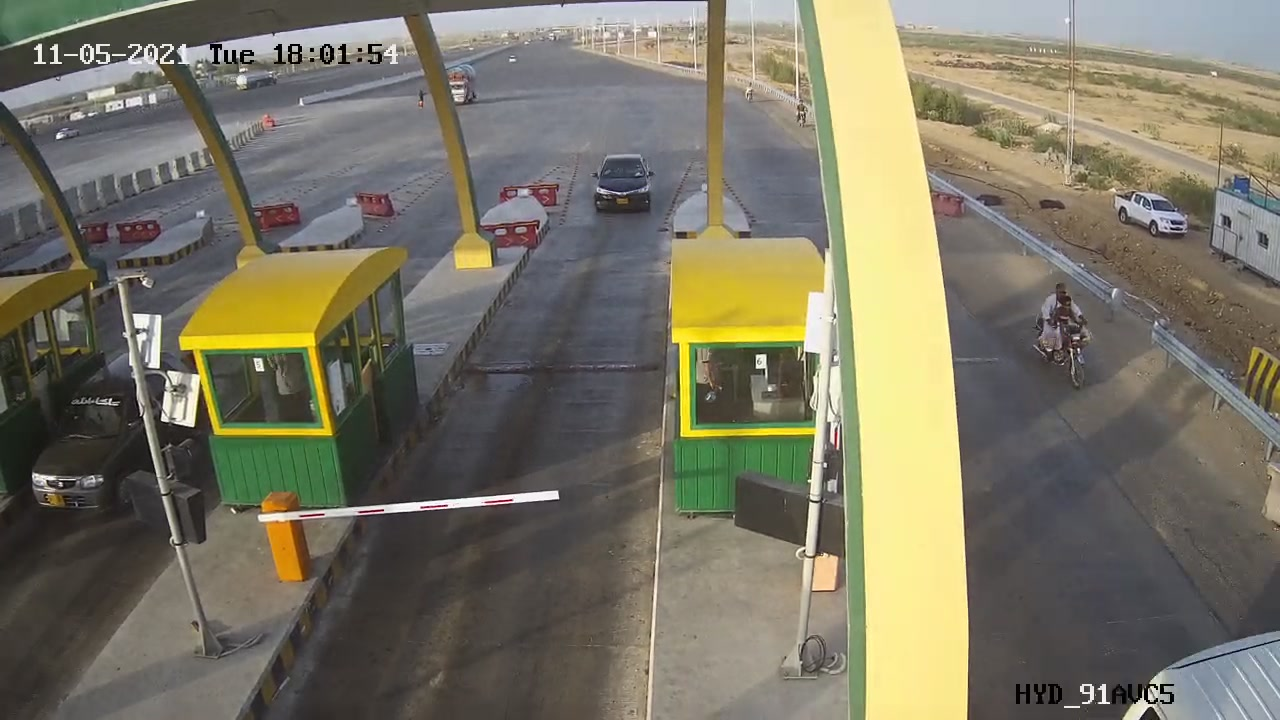F1: (581, 147, 661, 224)
